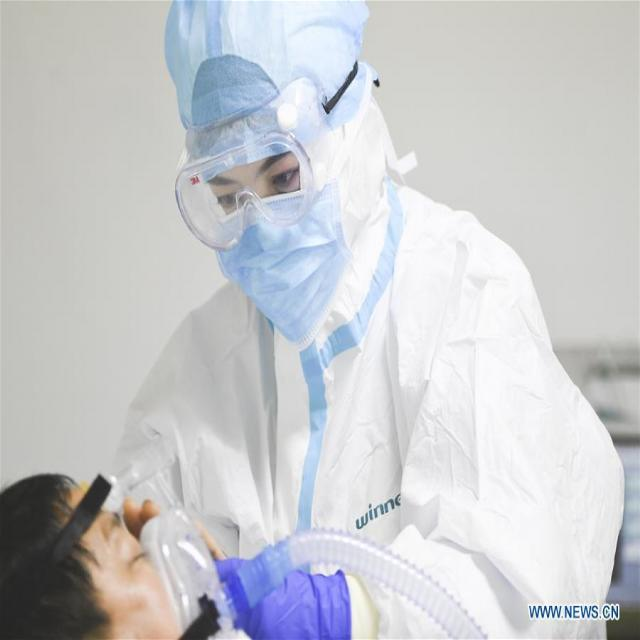Gloves: (216, 552, 351, 638)
Goggles: (165, 79, 338, 253)
